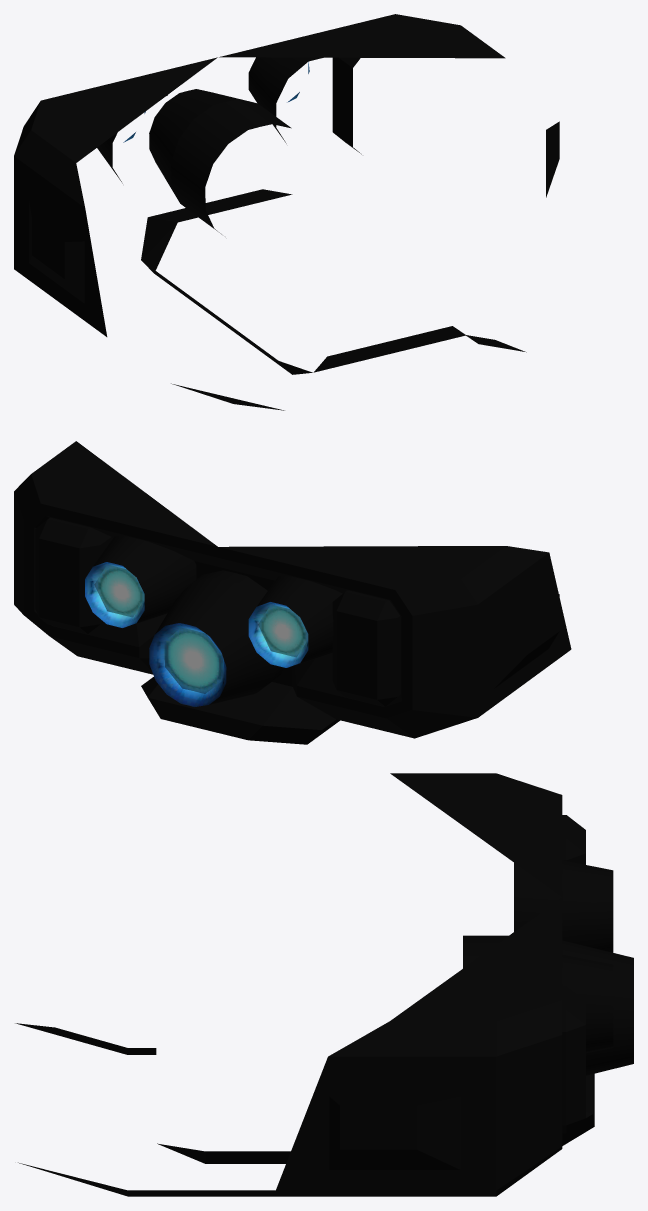
Rendered from engine_hgn_explorer_03_ion_01_t1.glb.
The picture shows the model from 3 angles, top to bottom: view 1: azimuth 30°, elevation 25°; view 2: azimuth 150°, elevation 25°; view 3: azimuth 270°, elevation 25°; orthographic projection. The views are drawn at different scales.
Parts seen in each view (by area): view 1: hgn_fs_explorer_03_engine_s; view 2: hgn_fs_explorer_03_engine_s; view 3: hgn_fs_explorer_03_engine_s.
Part boxes in pixels (x1=…): hgn_fs_explorer_03_engine_s: x1=14, y1=14, x2=559, y2=410; hgn_fs_explorer_03_engine_s: x1=14, y1=441, x2=571, y2=744; hgn_fs_explorer_03_engine_s: x1=15, y1=773, x2=633, y2=1196.
Size of the model in its own units: 2.52 by 0.9162 by 2.31.
Materials: 1 (1 with a texture image).
